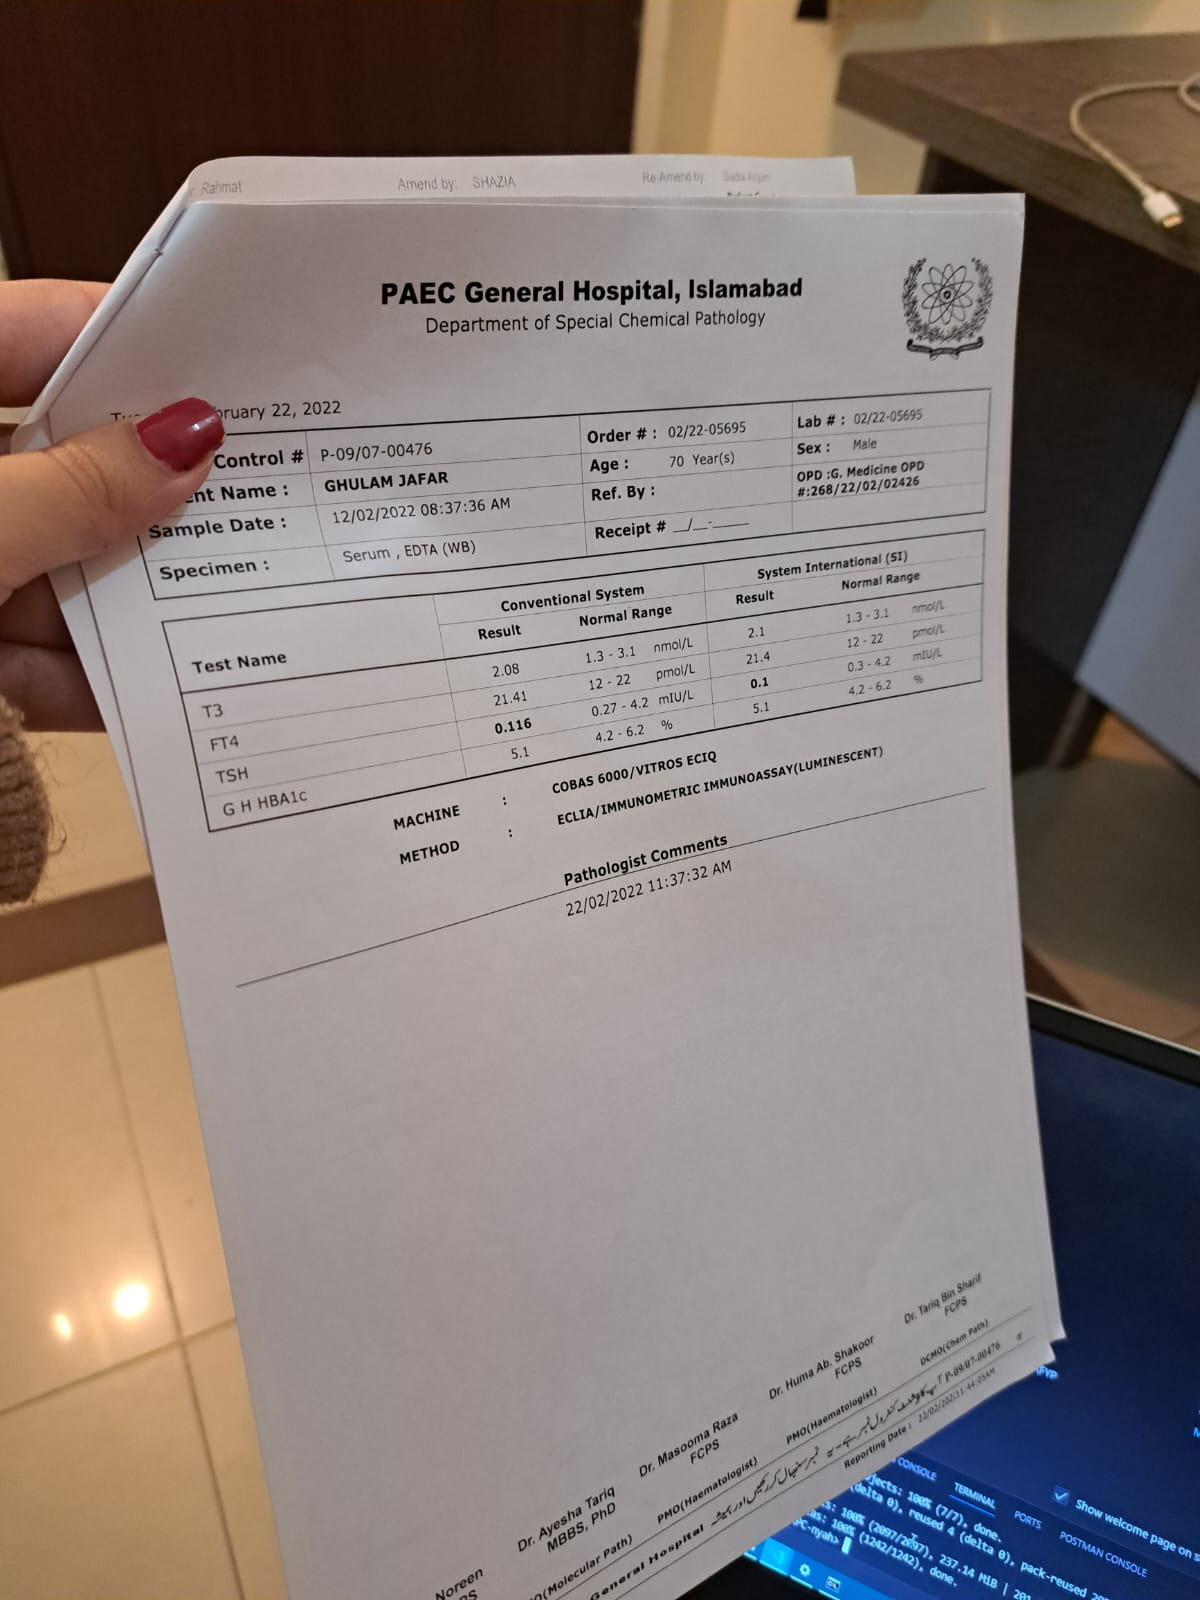report: (158, 529, 1008, 842)
